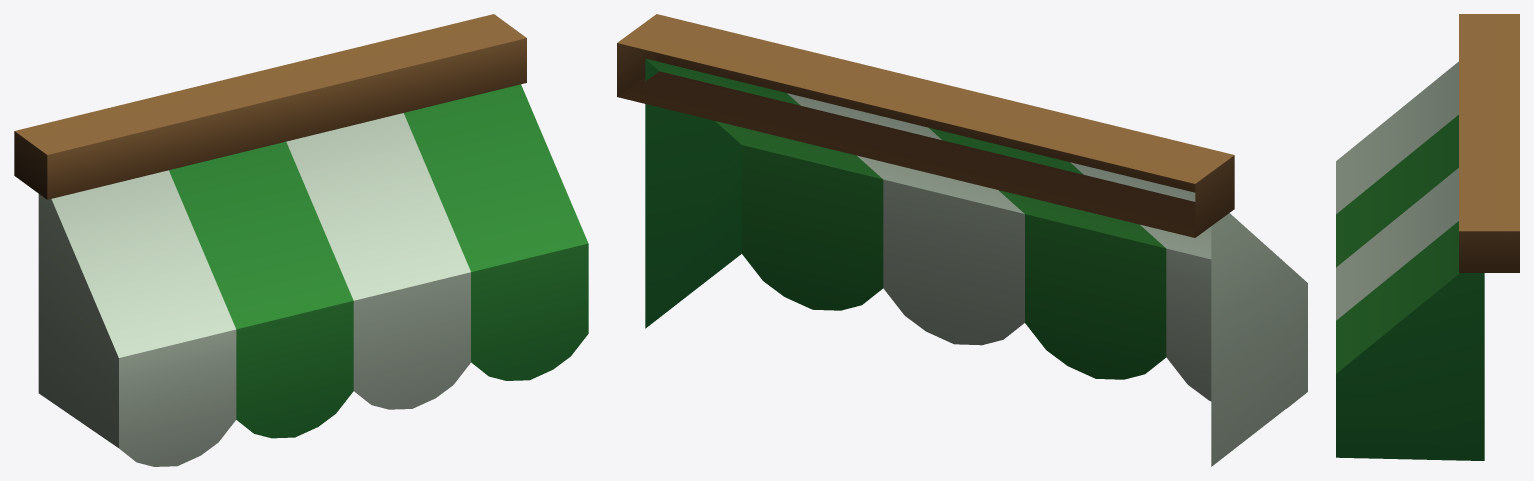
Rendered from Awning_02B.fbx.
The picture shows the model from 3 angles, left to right: view 1: azimuth 30°, elevation 25°; view 2: azimuth 150°, elevation 25°; view 3: azimuth 270°, elevation 25°; orthographic projection. The views are drawn at different scales.
Visible parts, largest first — view 1: Awning_02B; view 2: Awning_02B; view 3: Awning_02B.
Boxes of the visible parts, box(x1,y1,x2,y2) form: Awning_02B: box(14, 14, 588, 466); Awning_02B: box(617, 14, 1307, 466); Awning_02B: box(1336, 14, 1519, 460).
Size of the model in its own units: 201 by 112 by 71.9.
2 materials, 2 textured.
